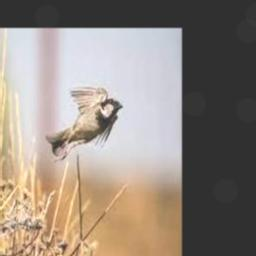Sparrow: (45, 85, 122, 162)
